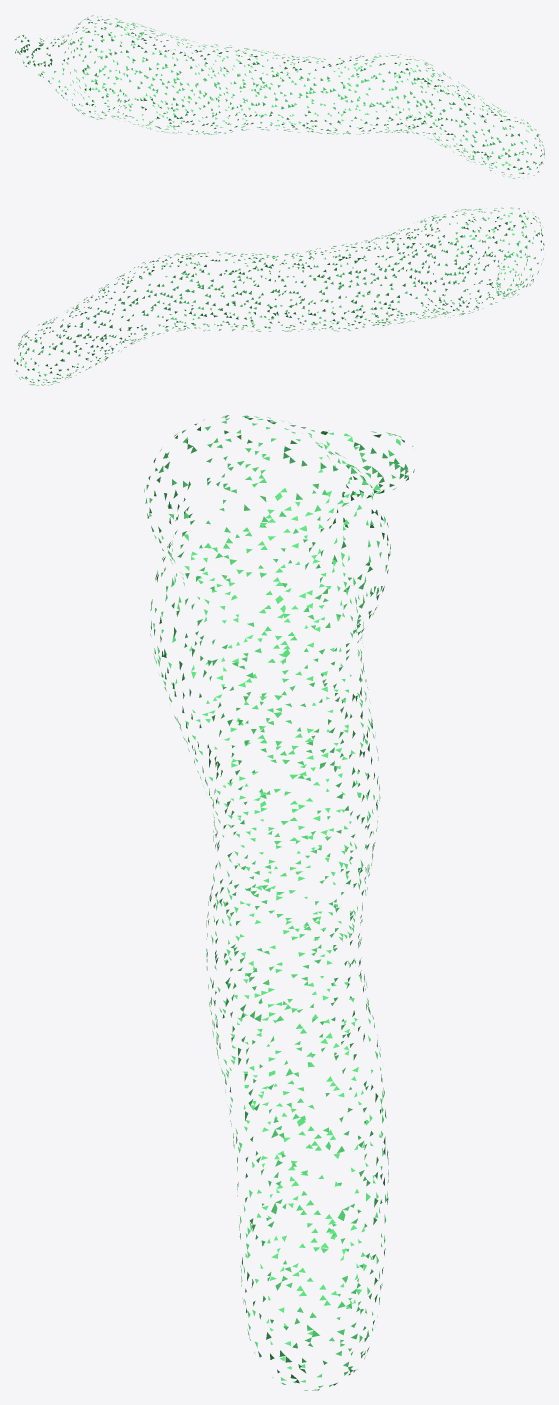
The model's file is morph_020.glb.
3 views of the same model, one above another, from view 1: azimuth 30°, elevation 25°; view 2: azimuth 150°, elevation 25°; view 3: azimuth 270°, elevation 25° (orthographic). The views are drawn at different scales.
Bounding box in the file's own units: 115 × 57.97 × 26.72.
